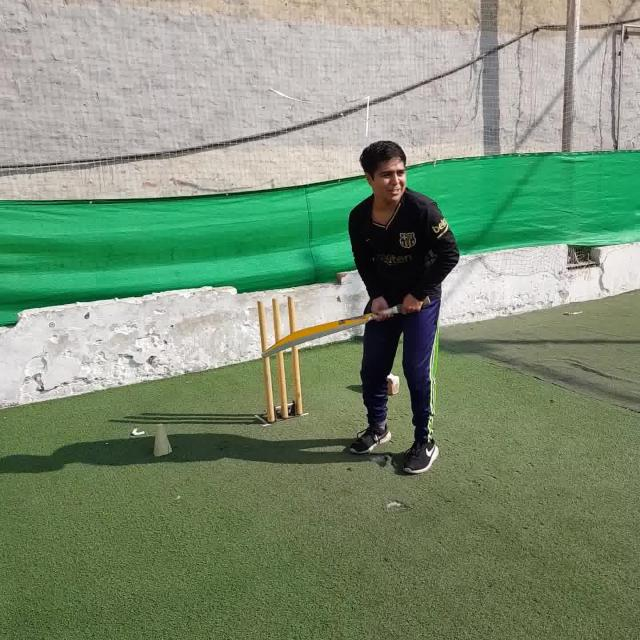bat: (262, 295, 431, 357)
